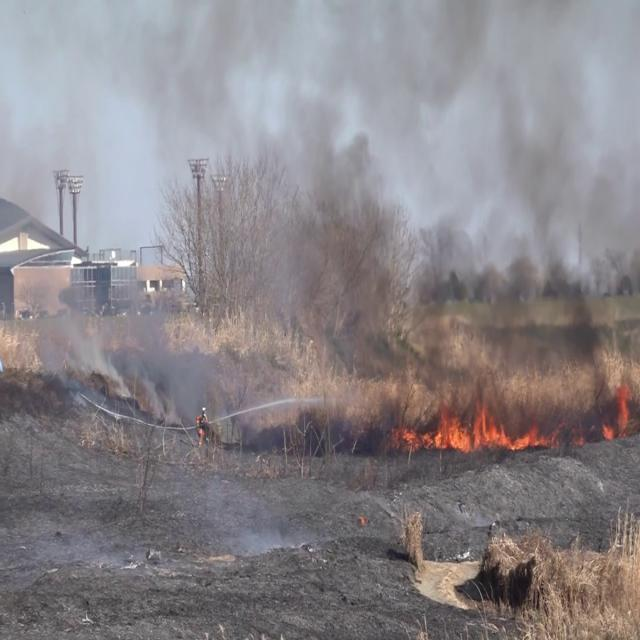Fire: (394, 401, 559, 458), (600, 383, 636, 443)
Smoke: (124, 0, 639, 400)
